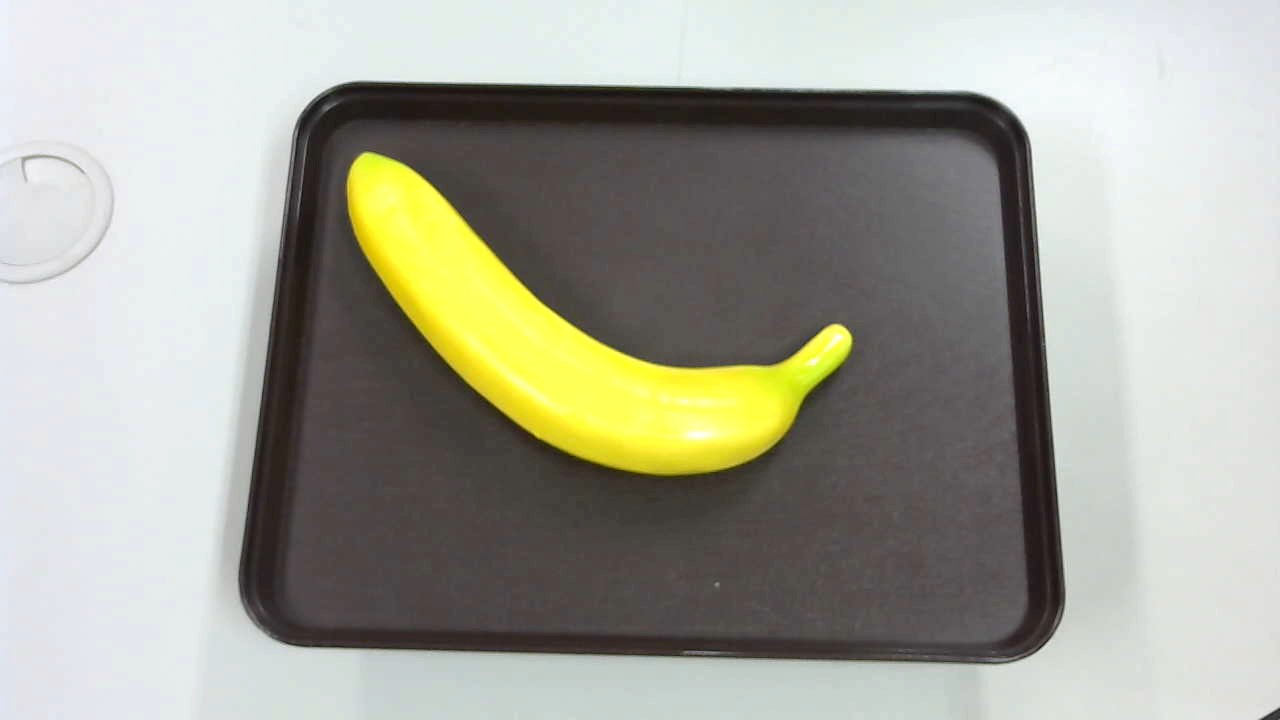banana: (329, 137, 864, 505)
